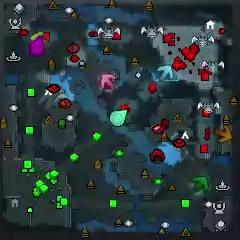p2: (109, 108, 127, 126)
p3: (29, 35, 46, 58)
x1: (100, 73, 117, 90)
x2: (31, 30, 47, 40)
x3: (157, 65, 173, 83)
x4: (192, 175, 208, 195)
x5: (213, 124, 232, 144)
